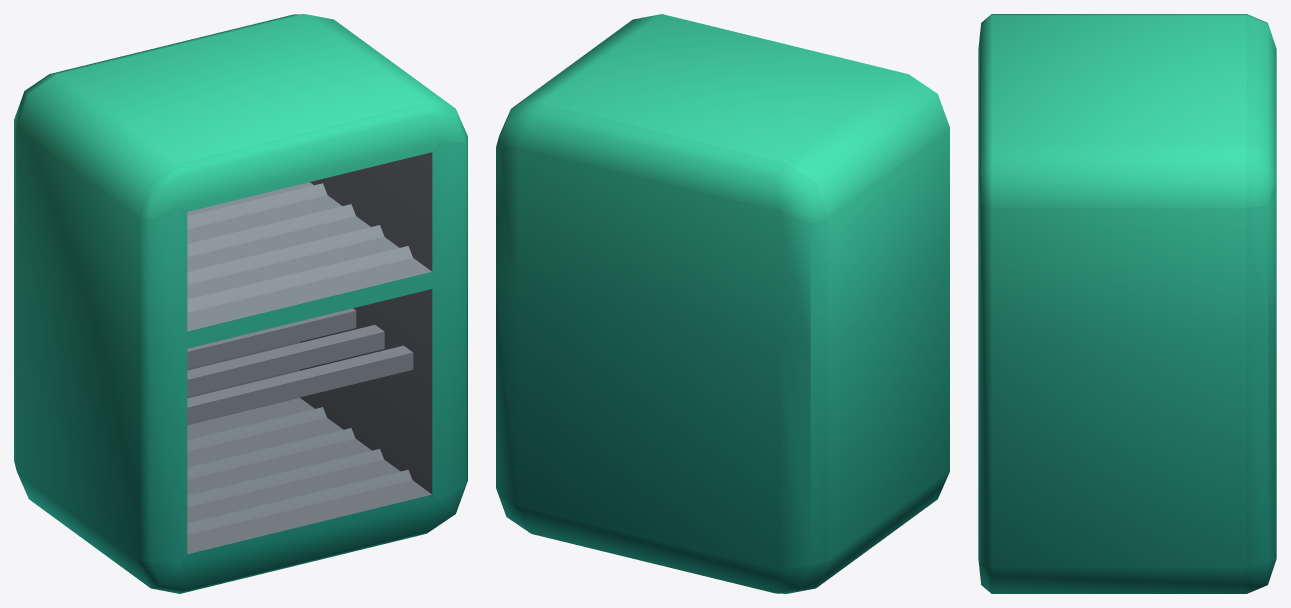
File: fridge_B.glb
The picture shows the model from 3 angles, left to right: view 1: azimuth 30°, elevation 25°; view 2: azimuth 150°, elevation 25°; view 3: azimuth 270°, elevation 25°; orthographic projection. The views are drawn at different scales.
Parts seen in each view (by area): view 1: fridge_B_Cube.006; view 2: fridge_B_Cube.006; view 3: fridge_B_Cube.006.
Boxes of the visible parts, x1,y1,x2,y2 form: fridge_B_Cube.006: (14, 14, 467, 593); fridge_B_Cube.006: (496, 14, 949, 593); fridge_B_Cube.006: (978, 14, 1276, 593).
Size of the model in its own units: 2 by 2.5 by 1.5.
Materials: 1 (1 with a texture image).
